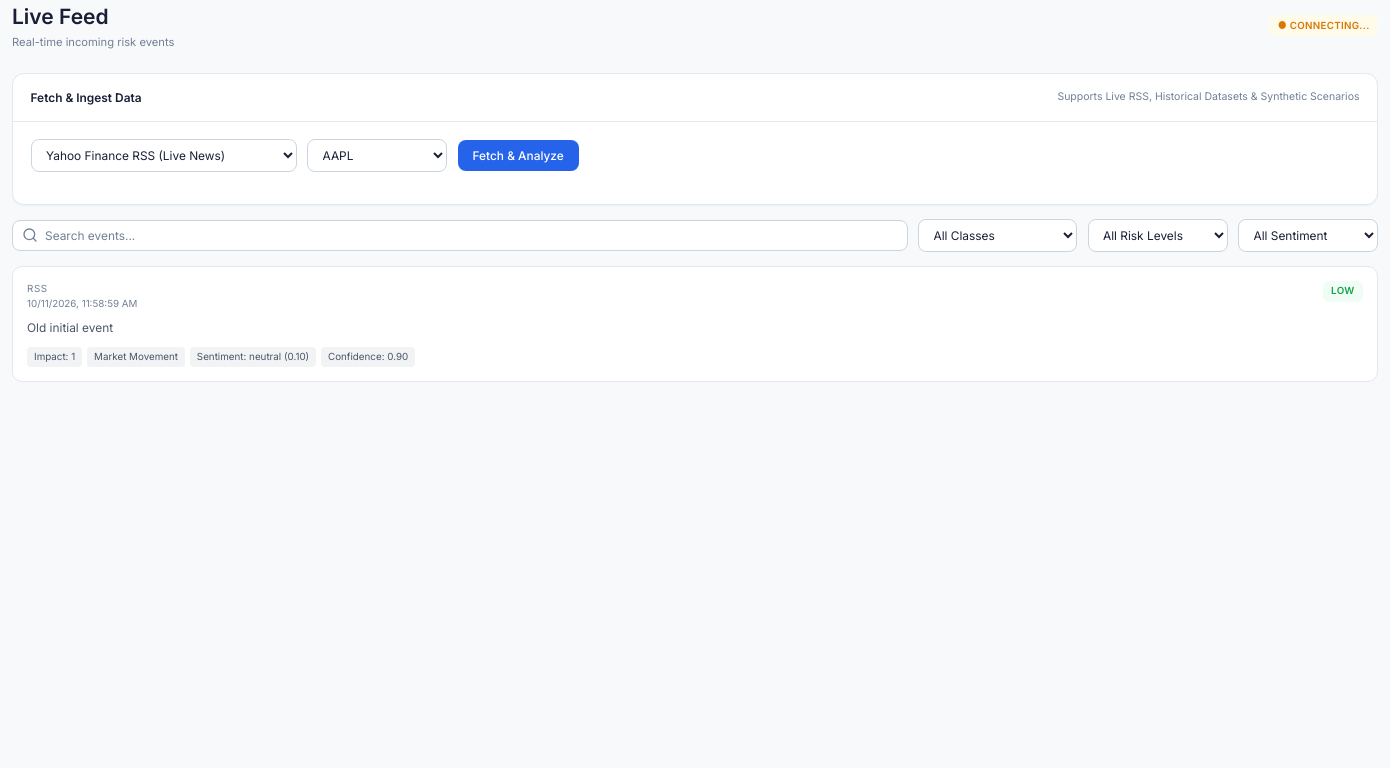
LiveFeedPage Synchronization › keeps newly ingested events immediately visible after Fetch & Analyze completes
Expected: the text "Old initial event" is shown, [27,320,113,335]
Click ingest
Click the button "Fetch & Analyze" at (518, 156), box [458,140,579,171]
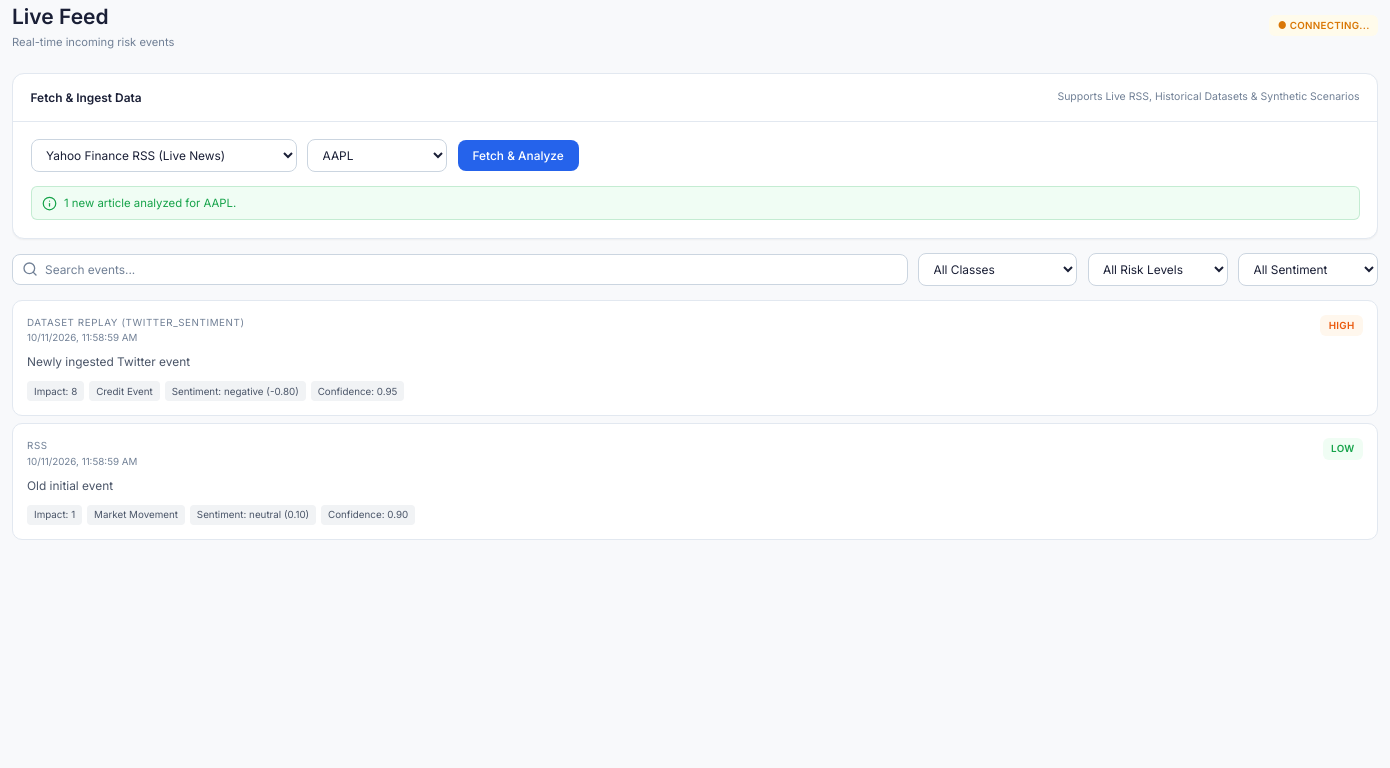
Expected: the text "Old initial event" is shown, [27,478,113,493]
Now the text "Newly ingested Twitter event" is shown, box [27,354,190,369]
